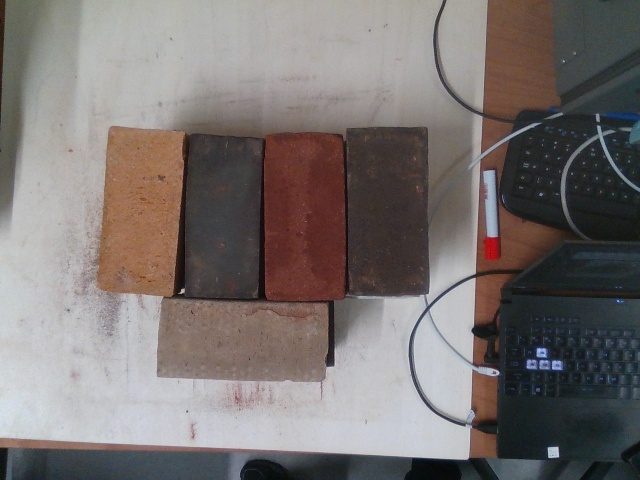brick: (94, 126, 185, 294), (347, 127, 428, 292), (157, 301, 325, 379), (264, 136, 342, 297), (186, 134, 260, 292)
